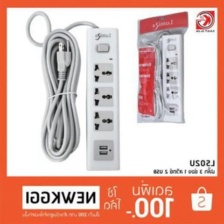three_eye_plug: (82, 24, 122, 173), (160, 31, 186, 124)
